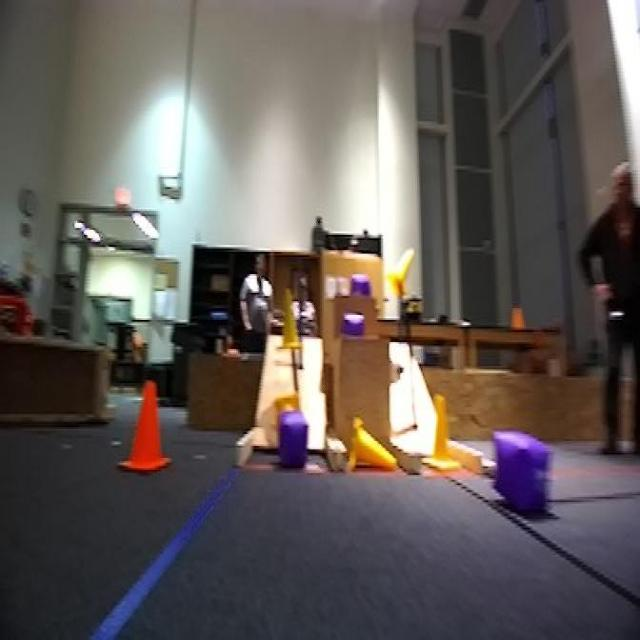frc_cone: (425, 395, 460, 475), (352, 419, 394, 470), (277, 291, 305, 354), (387, 248, 412, 300), (272, 397, 302, 417)
frc_cube: (495, 432, 550, 516), (278, 417, 311, 470), (343, 316, 365, 341), (354, 272, 370, 293)
